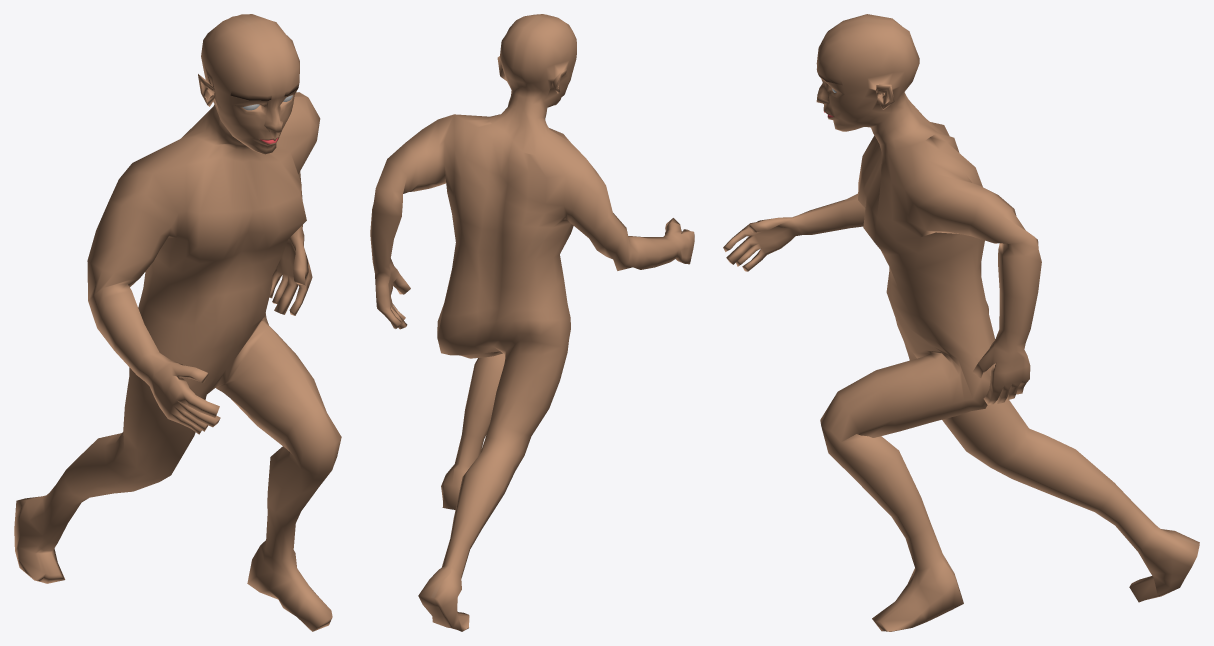
Rendered from human_running_4.fbx.
3 views of the same model, side by side, from view 1: azimuth 30°, elevation 25°; view 2: azimuth 150°, elevation 25°; view 3: azimuth 270°, elevation 25° (orthographic). The views are drawn at different scales.
Parts seen in each view (by area): view 1: body; view 2: body; view 3: body.
Boxes of the visible parts, <box> form: body: <box>14,14,341,631</box>; body: <box>370,14,694,631</box>; body: <box>723,14,1199,631</box>.
Bounding box in the file's own units: 244 × 553 × 399.
